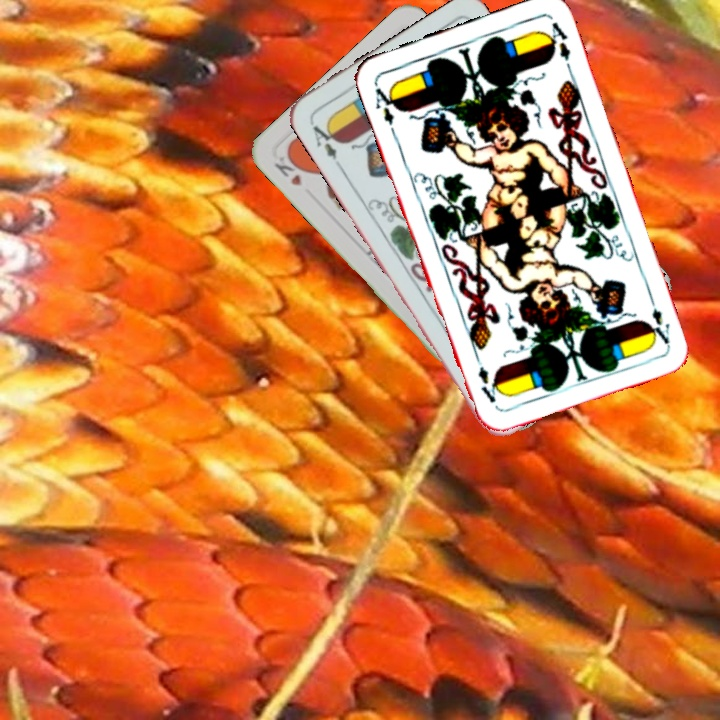EA: (306, 117, 344, 169), (370, 79, 401, 136), (643, 290, 672, 348)
HK: (270, 149, 309, 189)
